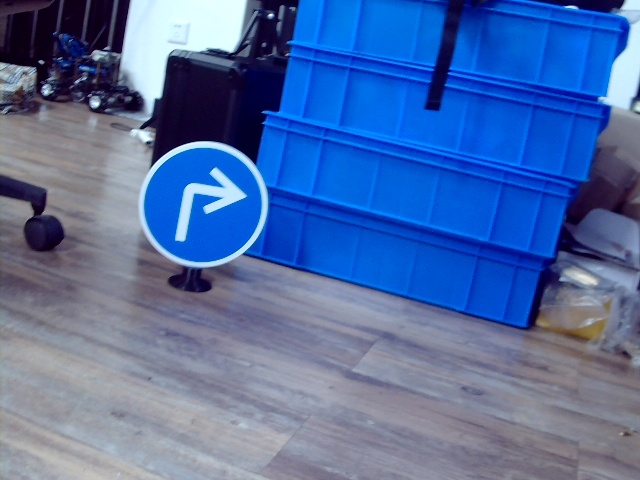turn_right: (173, 170, 246, 241)
